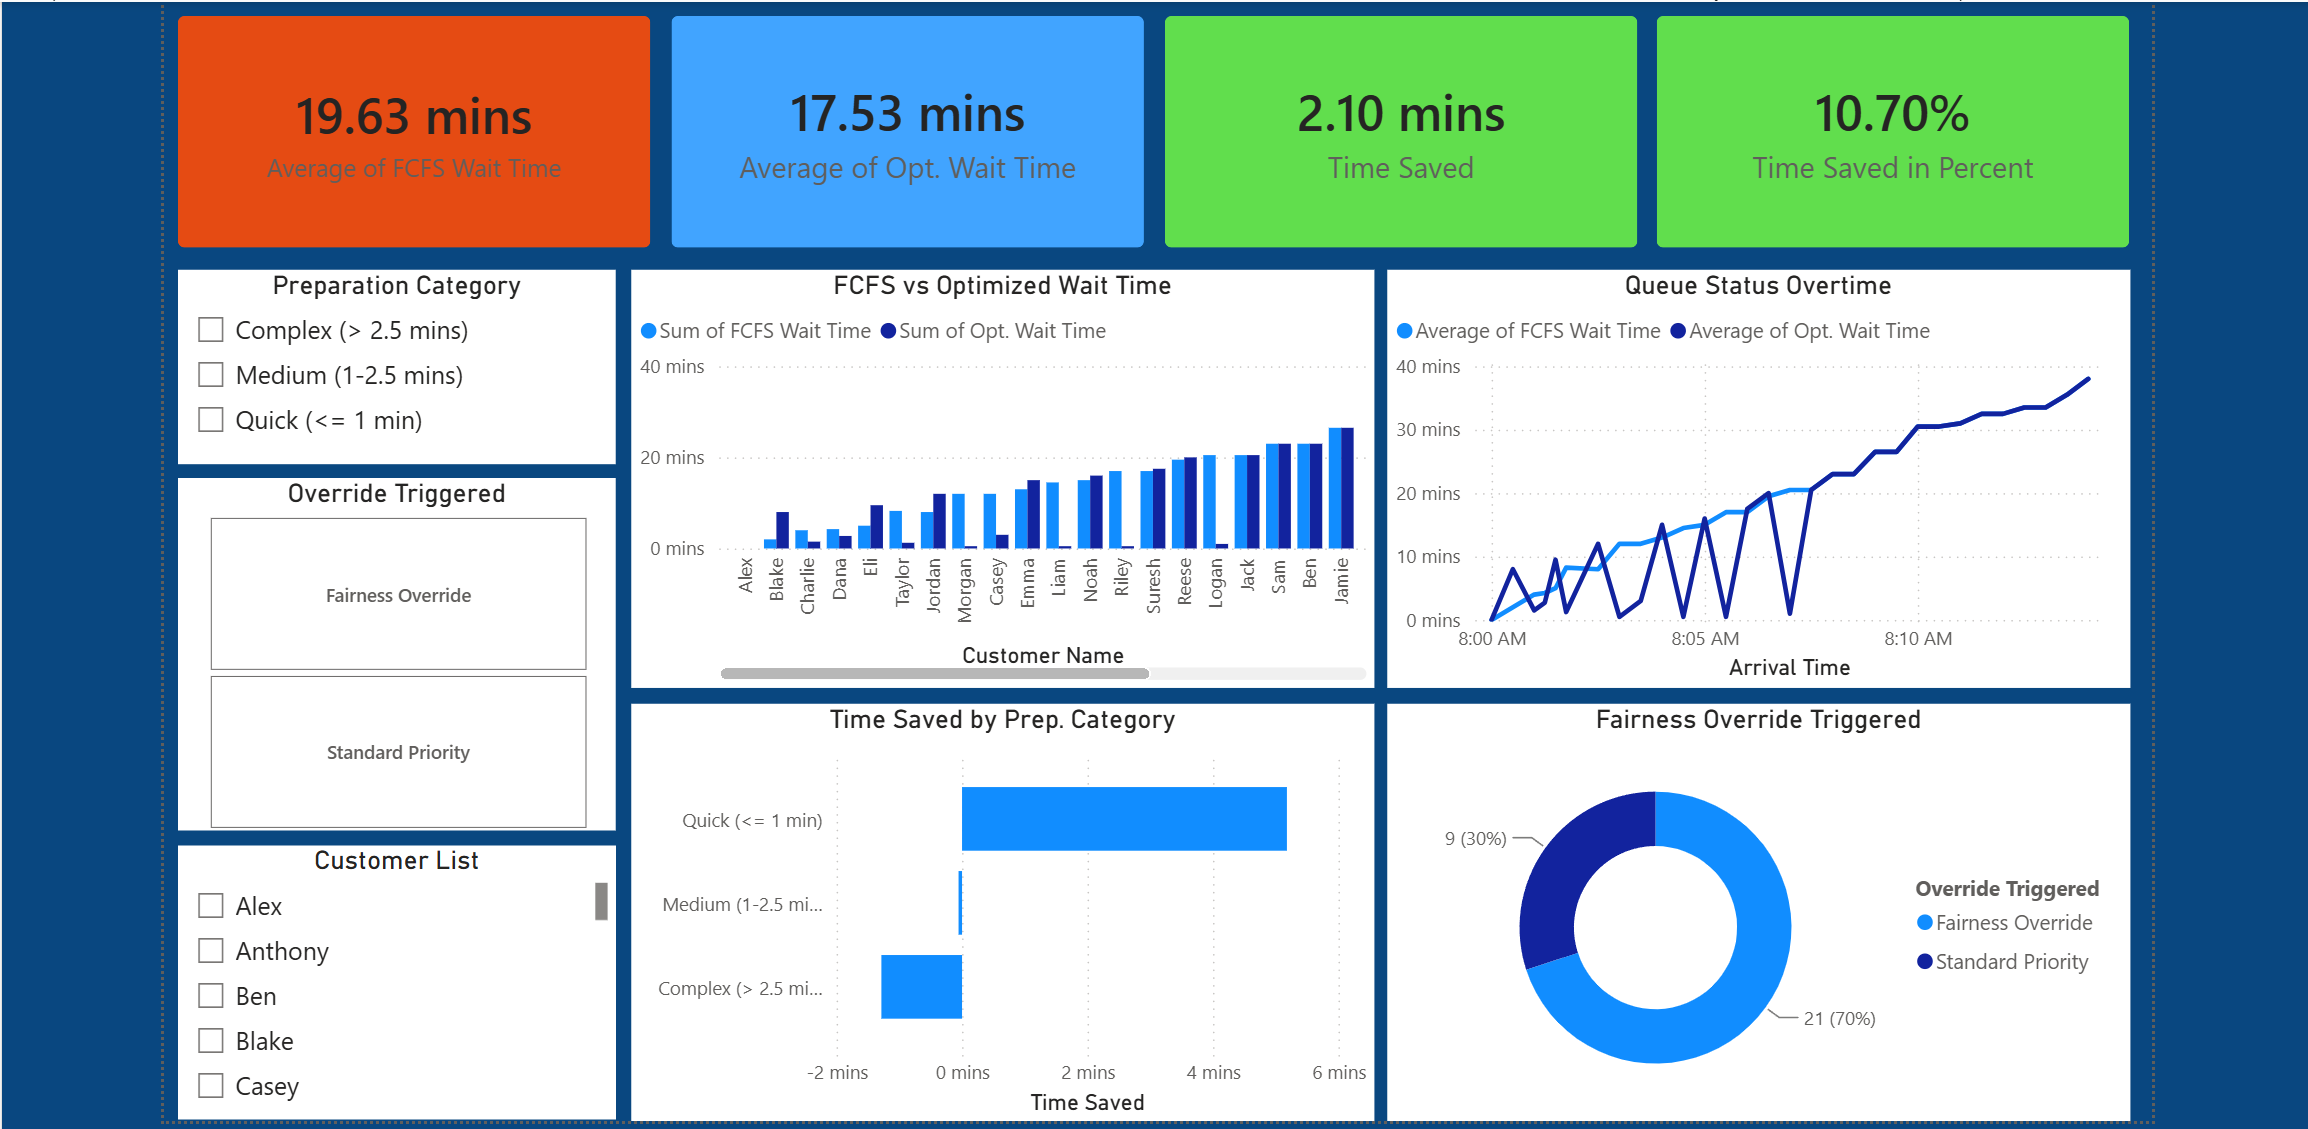

The dashboard page shown, as its layout file describes it:
{"tool":"powerbi","page":{"name":"Page 1","canvas":[1280,720],"ordinal":0},"visuals":[{"type":"cardVisual","fields":{"Data":["Avg(Sim Time.Opt_Wait_Min)"]},"box":[326.3,8.9,304.7,149.1],"z":0},{"type":"cardVisual","fields":{"Data":["Sim Time.Avg_Time_Saved"]},"box":[643.7,8.9,304.7,149.1],"z":1000},{"type":"cardVisual","fields":{"Data":["Sim Time.Time_Saved_Percentage"]},"box":[961.1,8.9,304.7,149.1],"z":2000},{"type":"clusteredColumnChart","title":"FCFS vs Optimized Wait Time","fields":{"Y":["Sum(Sim Time.FCFS Wait Time)","Sum(Sim Time.Opt. Wait Time)"],"Category":["Sim Time.Customer_Name"]},"box":[300.8,172.1,478,269],"z":3000},{"type":"lineChart","title":"Queue Status Overtime","fields":{"Category":["Sim Time.Arrival_Time"],"Y":["Avg(Sim Time.FCFS Wait Time)","Avg(Sim Time.Opt. Wait Time)"]},"box":[787.8,172.1,478,269],"z":4000},{"type":"clusteredBarChart","title":"Time Saved by Prep. Category","fields":{"Y":["Sim Time.Time Saved"],"Category":["Sim Time.Prep_Category"]},"box":[300.8,451.3,478,269],"z":5000},{"type":"donutChart","title":"Fairness Override Triggered","fields":{"Category":["Sim Time.Override Triggered"],"Y":["CountNonNull(Sim Time.Order_ID)"]},"box":[787.8,451.3,478,269],"z":6000},{"type":"slicer","title":"Preparation Category","fields":{"Values":["Sim Time.Prep_Category"]},"box":[8.9,172.1,281.7,124.9],"z":7000},{"type":"slicer","title":"Override Triggered","fields":{"Values":["Sim Time.Override Triggered"]},"box":[8.9,306.6,281.7,226.9],"z":8000},{"type":"slicer","title":"Customer List","fields":{"Values":["Sim Time.Customer Name"]},"box":[8.9,543,281.7,175.9],"z":9000},{"type":"cardVisual","fields":{"Data":["Avg(Sim Time.FCFS Wait Time)"]},"box":[8.9,8.9,304.7,149.1],"z":10000}]}

Visuals, with their boxes in screenshot pixels (x1, y1, x2, y2):
cardVisual - Avg(Sim Time.Opt_Wait_Min): l=667, t=14, r=1139, b=245
cardVisual - Sim Time.Avg_Time_Saved: l=1159, t=14, r=1630, b=245
cardVisual - Sim Time.Time_Saved_Percentage: l=1650, t=14, r=2121, b=245
"FCFS vs Optimized Wait Time" clusteredColumnChart: l=628, t=266, r=1368, b=683
"Queue Status Overtime" lineChart: l=1382, t=266, r=2121, b=683
"Time Saved by Prep. Category" clusteredBarChart: l=628, t=698, r=1368, b=1115
"Fairness Override Triggered" donutChart: l=1382, t=698, r=2121, b=1115
"Preparation Category" slicer: l=176, t=266, r=612, b=460
"Override Triggered" slicer: l=176, t=475, r=612, b=826
"Customer List" slicer: l=176, t=840, r=612, b=1113
cardVisual - Avg(Sim Time.FCFS Wait Time): l=176, t=14, r=648, b=245
